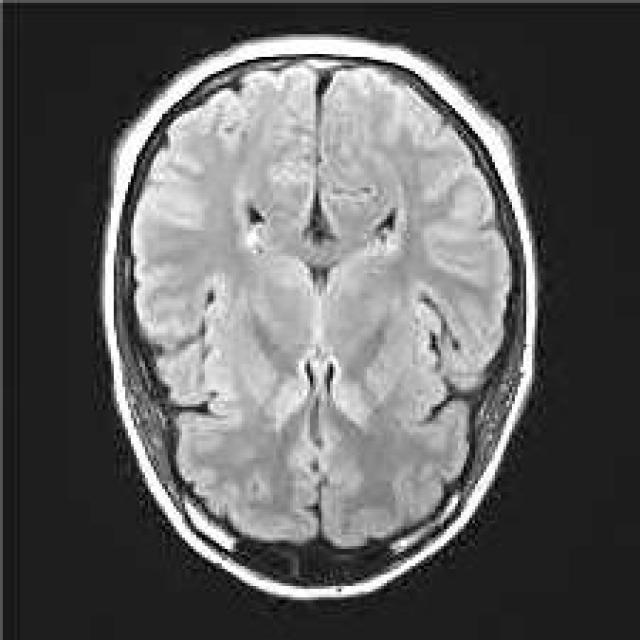No_Tumor: (102, 36, 537, 599)
